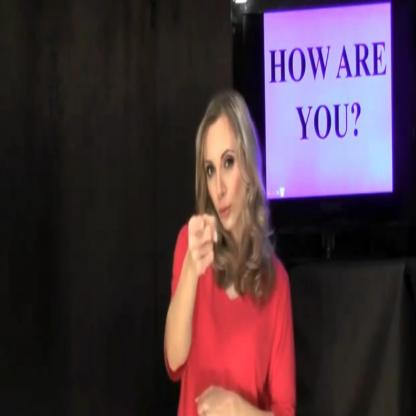HowAreYou: (184, 203, 272, 416)
